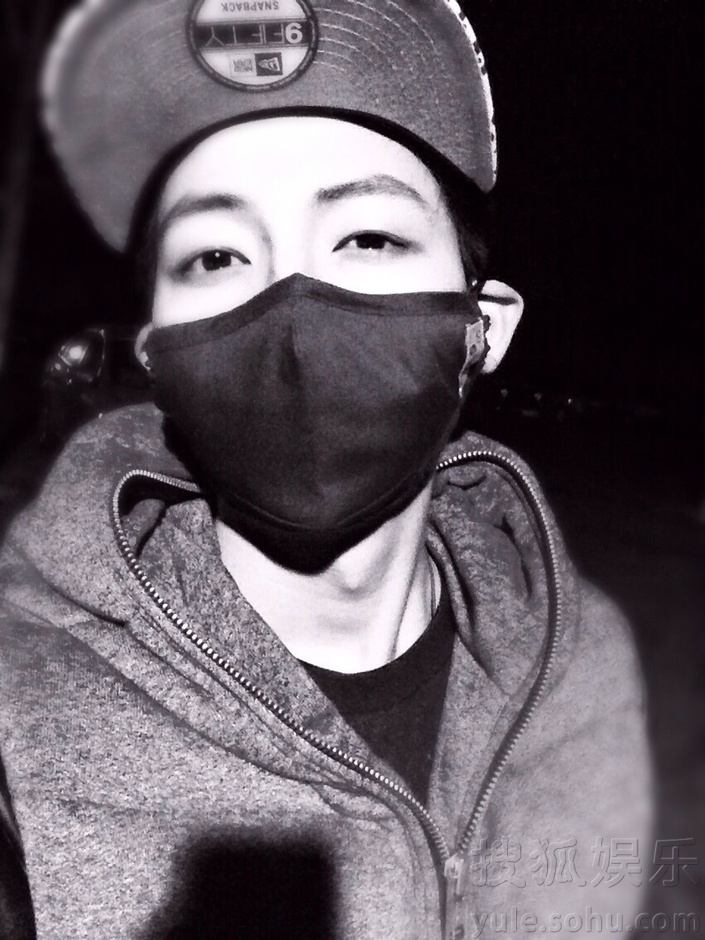face_mask: (149, 73, 468, 549)
